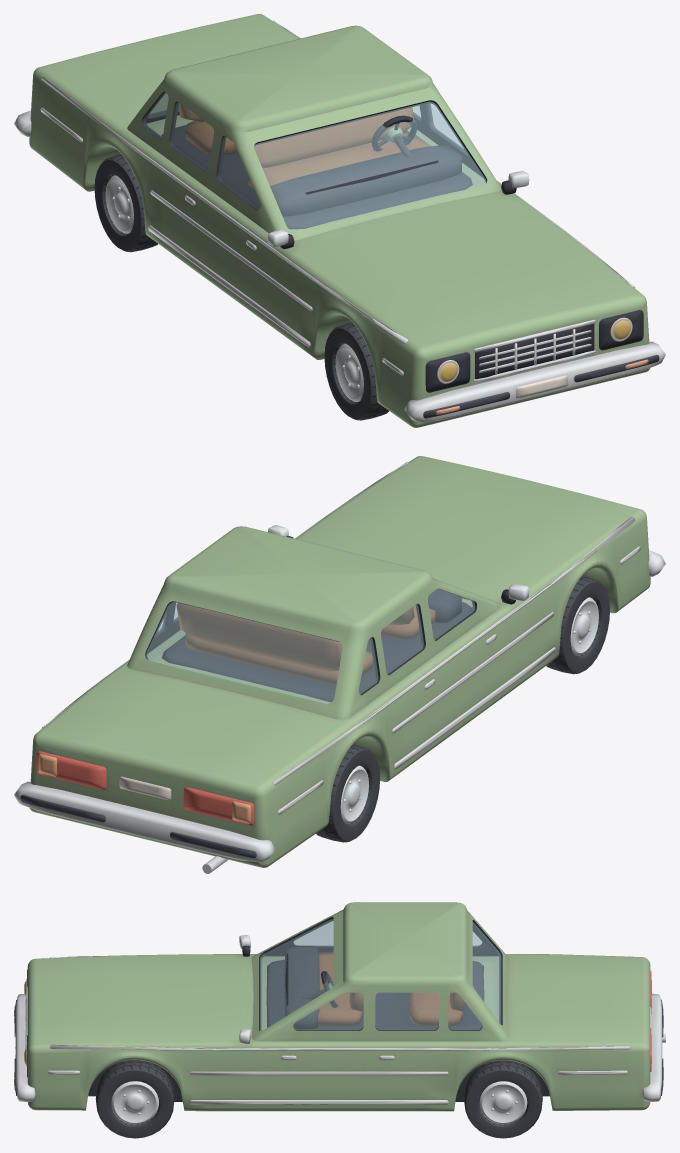
Rendered from 1970s-sedan.glb.
3 renders of one model, top to bottom at view 1: azimuth 30°, elevation 25°; view 2: azimuth 150°, elevation 25°; view 3: azimuth 270°, elevation 25°, orthographic. The views are drawn at different scales.
Visible parts, largest first — view 1: 1970s-sedan_body, 1970s-sedan_windows, 1970s-sedan_wheel_fr, 1970s-sedan_wheel_rr; view 2: 1970s-sedan_body, 1970s-sedan_windows, 1970s-sedan_wheel_rr, 1970s-sedan_wheel_fr; view 3: 1970s-sedan_body, 1970s-sedan_windows, 1970s-sedan_wheel_fl, 1970s-sedan_wheel_rl.
Part boxes in pixels (box(x1,y1,x2,y2)): 1970s-sedan_body: box(14, 14, 665, 427); 1970s-sedan_windows: box(144, 92, 486, 230); 1970s-sedan_wheel_fr: box(324, 322, 388, 420); 1970s-sedan_wheel_rr: box(94, 154, 157, 252); 1970s-sedan_body: box(14, 456, 665, 873); 1970s-sedan_windows: box(146, 589, 474, 703); 1970s-sedan_wheel_rr: box(316, 744, 379, 842); 1970s-sedan_wheel_fr: box(546, 576, 609, 674); 1970s-sedan_body: box(14, 902, 665, 1111); 1970s-sedan_windows: box(260, 919, 500, 1030); 1970s-sedan_wheel_fl: box(95, 1060, 174, 1138); 1970s-sedan_wheel_rl: box(464, 1060, 542, 1138).
Bounding box in the file's own units: 2 × 1.42 × 5.45.
6 materials, 2 textured.
